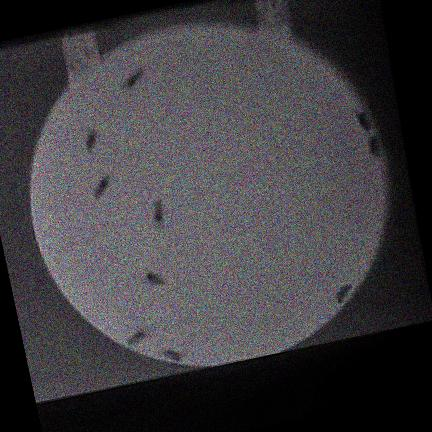fly: (93, 175, 111, 199), (124, 70, 144, 90), (355, 110, 371, 131), (146, 271, 166, 287), (153, 200, 164, 229), (160, 349, 183, 362), (128, 331, 146, 347), (337, 286, 351, 304), (369, 136, 381, 156), (86, 131, 97, 152)
